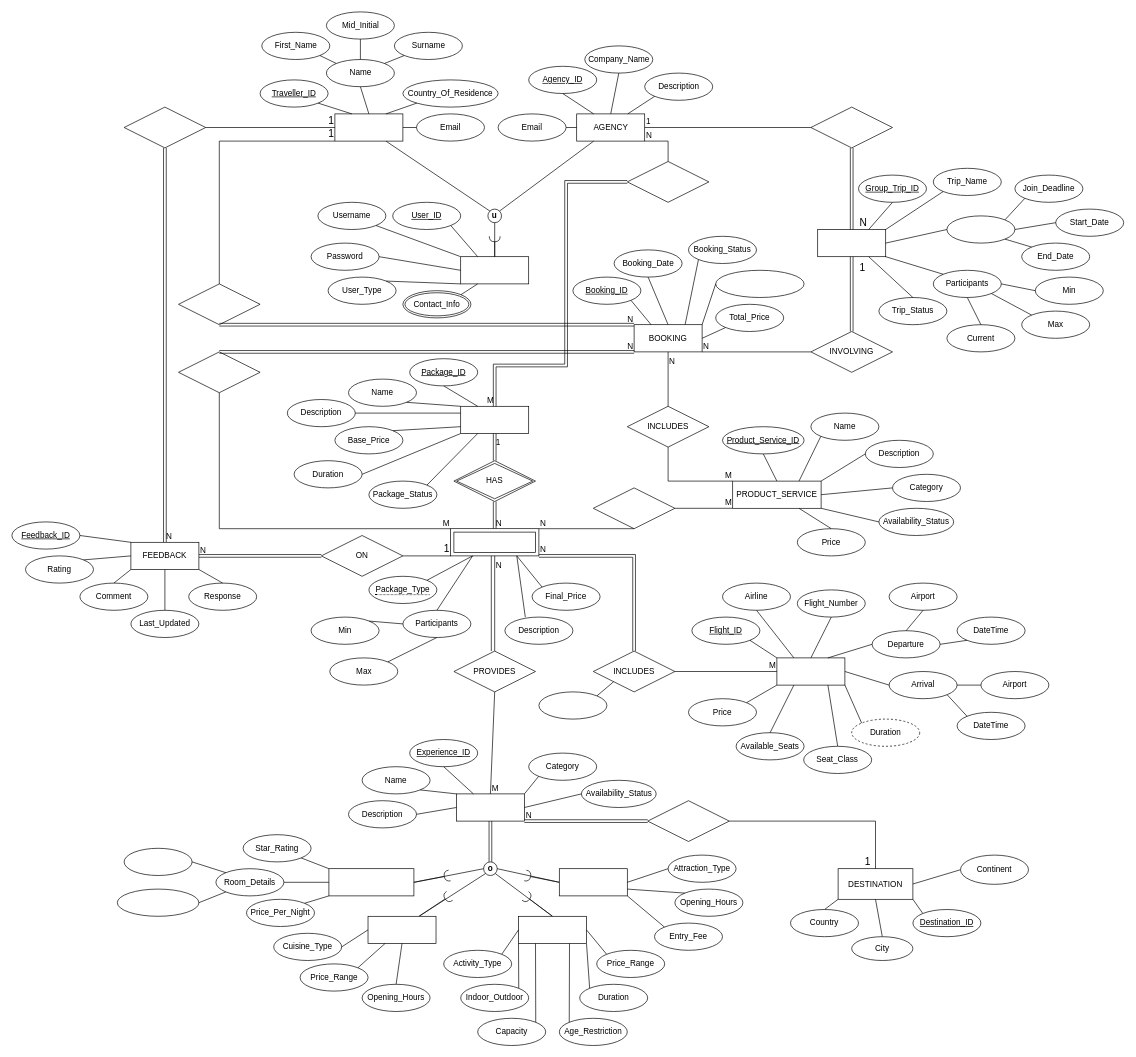
The diagram is 1136 pixels wide and 1057 high, and some of its shapes have lost their labels. The shapes that lost their labels are listed below. From the top down, each one's centre as x and y in pixels, then its label:
At (x=164, y=127): "GIVES".
At (x=368, y=127): "TRAVELLER".
At (x=851, y=127): "MANAGES".
At (x=668, y=181): "DESIGNS".
At (x=851, y=243): "GROUP_TRIP".
At (x=980, y=229): "Timeline".
At (x=494, y=270): "USER".
At (x=759, y=284): "Number_Of_People".
At (x=219, y=304): "MAKES".
At (x=219, y=372): "OF".
At (x=494, y=420): "PACKAGE".
At (x=634, y=508): "ADDS_ON".
At (x=494, y=542): "PACKAGE_OPTION".
At (x=810, y=671): "FLIGHT".
At (x=572, y=705): "Seats_Allocated".
At (x=490, y=807): "EXPERIENCE".
At (x=688, y=821): "IN".
At (x=157, y=862): "Room_Capacity".
At (x=371, y=882): "ACCOMMODATION".
At (x=593, y=882): "ATTRACTION".
At (x=158, y=902): "Number_Of_Rooms".
At (x=401, y=930): "RESTAURANT".
At (x=552, y=930): "ACTIVITY".
